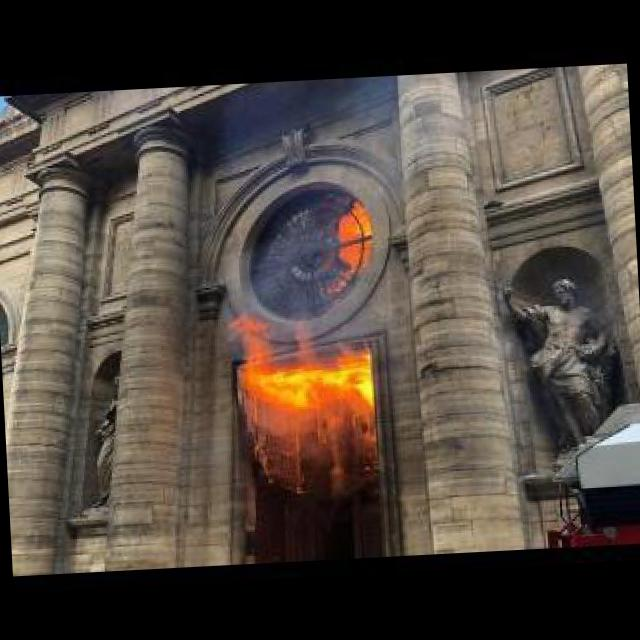Fire: (228, 306, 388, 432), (328, 192, 382, 276)
